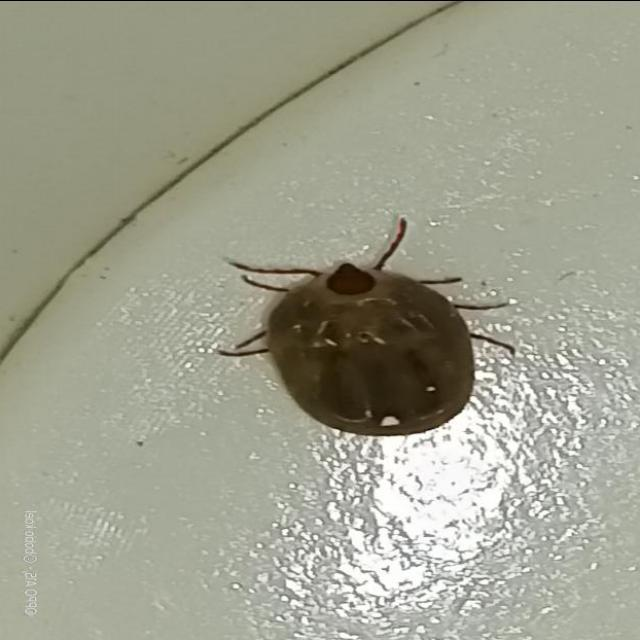Rhipicephalus Sanguineus-F-Fed: (220, 216, 533, 438)
